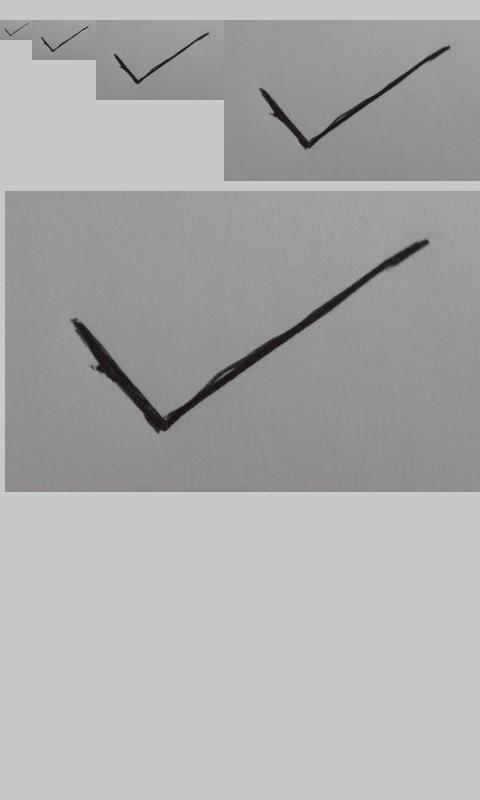check_box: (73, 239, 429, 434), (260, 46, 448, 150), (114, 32, 209, 84), (40, 26, 89, 52), (4, 22, 29, 37)
